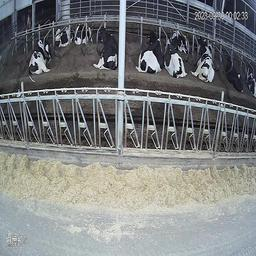cow: (131, 29, 165, 74), (93, 24, 118, 72), (26, 38, 52, 80), (192, 44, 216, 82), (165, 38, 188, 77), (223, 54, 244, 92), (54, 24, 74, 49), (171, 26, 189, 51), (74, 21, 91, 47), (245, 64, 256, 98)
